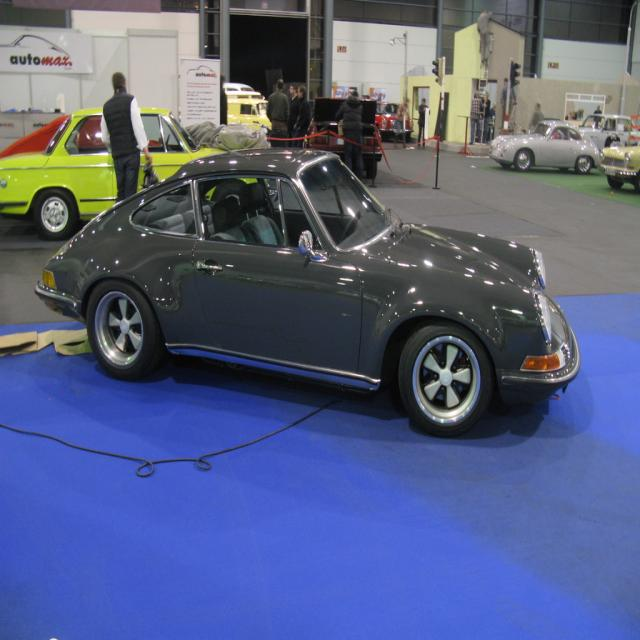car: (16, 138, 586, 434)
